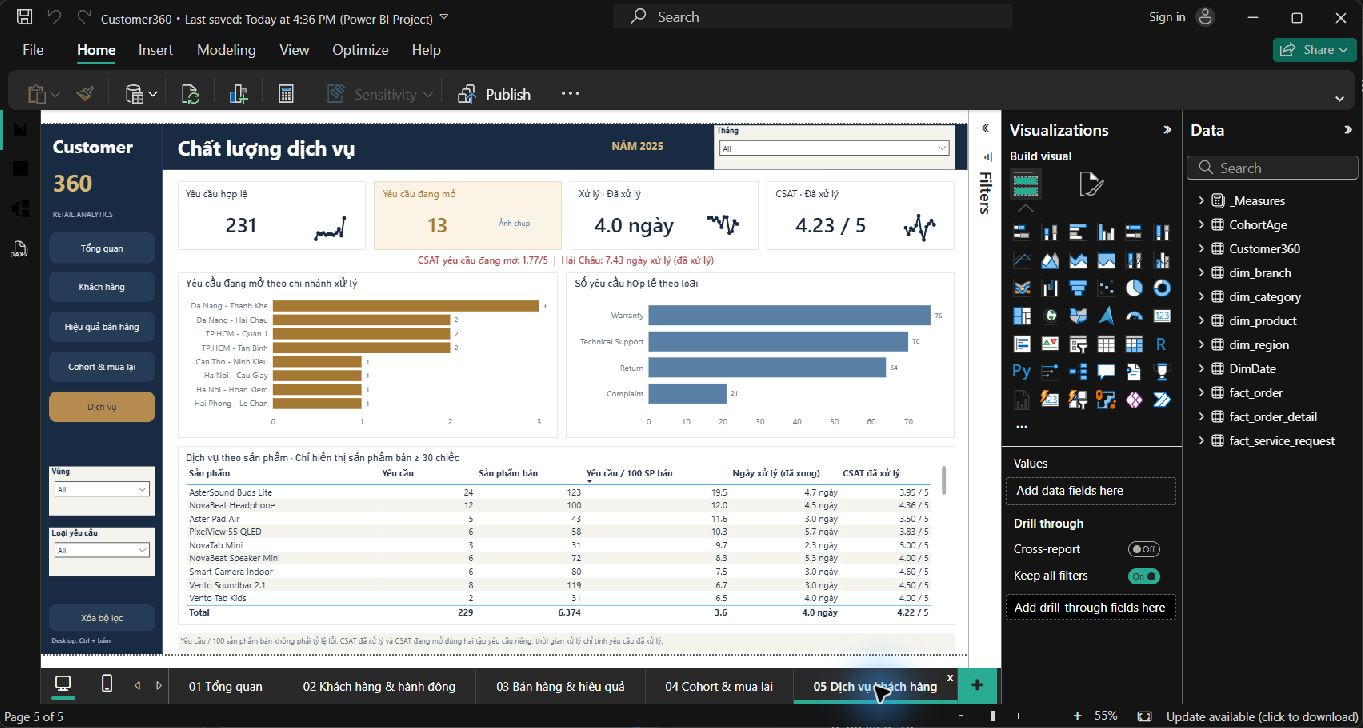

What the dashboard file says about the page in this screenshot:
{"tool":"powerbi","page":{"name":"05 Dịch vụ khách hàng","canvas":[1680,960],"ordinal":4},"visuals":[{"type":"textbox","box":[0,0,220,960],"z":0},{"type":"textbox","box":[220,0,1460,82],"z":0},{"type":"actionButton","box":[248,104,340,124],"z":1},{"type":"actionButton","box":[604,104,340,124],"z":1},{"type":"actionButton","box":[960,104,340,124],"z":1},{"type":"actionButton","box":[1316,104,340,124],"z":1},{"type":"actionButton","box":[248,268,688,300],"z":1},{"type":"actionButton","box":[952,268,704,300],"z":1},{"type":"actionButton","box":[248,584,1408,324],"z":1},{"type":"actionButton","box":[14,195,192,56],"z":20},{"type":"actionButton","box":[14,267,192,56],"z":20},{"type":"actionButton","box":[14,339,192,56],"z":20},{"type":"actionButton","box":[14,411,192,56],"z":20},{"type":"actionButton","box":[14,483,192,56],"z":20},{"type":"actionButton","box":[14,870,192,48],"z":20},{"type":"clusteredBarChart","title":"Yêu cầu đang mở theo chi nhánh xử lý","fields":{"Category":["dim_branch.branch_name"],"Y":["_Measures.Open Service Requests"]},"box":[258,276,668,284],"z":45},{"type":"clusteredBarChart","title":"Số yêu cầu hợp lệ theo loại","fields":{"Category":["fact_service_request.request_type"],"Y":["_Measures.Valid Service Requests"]},"box":[962,276,684,284],"z":45},{"type":"tableEx","title":"Dịch vụ theo sản phẩm · Chỉ hiển thị sản phẩm bán ≥ 30 chiếc","fields":{"Values":["dim_product.product_name","_Measures.Valid Service Requests","_Measures.Units Sold","_Measures.Requests Per 100 Units","_Measures.Avg Resolution Days","_Measures.CSAT Resolved"]},"box":[258,592,1388,308],"z":45},{"type":"slicer","title":"Tháng","fields":{"Values":["DimDate.MonthLabel"]},"box":[1220,1,436,80],"z":55},{"type":"slicer","title":"Vùng","fields":{"Values":["dim_region.region_name"]},"box":[14,620,192,89],"z":56},{"type":"slicer","title":"Loại yêu cầu","fields":{"Values":["fact_service_request.request_type"]},"box":[14,730,192,89],"z":57},{"type":"card","fields":{"Values":["_Measures.Valid Service Requests"]},"box":[256,144,214,76],"z":60},{"type":"card","fields":{"Values":["_Measures.Open Service Requests"]},"box":[612,144,214,76],"z":60},{"type":"card","fields":{"Values":["_Measures.Avg Resolution Days"]},"box":[968,144,214,76],"z":60},{"type":"card","fields":{"Values":["_Measures.CSAT Resolved"]},"box":[1324,144,214,76],"z":60},{"type":"lineChart","fields":{"Category":["DimDate.MonthNumber"],"Y":["_Measures.Valid Service Requests"]},"box":[479,149,100,70],"z":65},{"type":"lineChart","fields":{"Category":["DimDate.MonthNumber"],"Y":["_Measures.Avg Resolution Days"]},"box":[1191,149,100,70],"z":65},{"type":"lineChart","fields":{"Category":["DimDate.MonthNumber"],"Y":["_Measures.CSAT Resolved"]},"box":[1547,149,100,70],"z":65},{"type":"textbox","box":[248,923,1408,33],"z":65},{"type":"textbox","box":[16,12,196,70],"z":80},{"type":"textbox","box":[242,12,790,65],"z":80},{"type":"textbox","box":[1030,21,170,48],"z":80},{"type":"textbox","box":[16,73,196,76],"z":80},{"type":"textbox","box":[258,108,318,42],"z":80},{"type":"textbox","box":[614,108,318,42],"z":80},{"type":"textbox","box":[970,108,318,42],"z":80},{"type":"textbox","box":[1326,108,318,42],"z":80},{"type":"textbox","box":[16,149,196,40],"z":80},{"type":"textbox","box":[824,164,112,46],"z":80},{"type":"textbox","box":[14,921,196,33],"z":80},{"type":"card","fields":{"Values":["_Measures.Service Attention Line"]},"box":[258,232,1388,33],"z":90}]}

Visuals, with their boxes on the page's 1680x960 design canvas (x1, y1, x2, y2). These are canvas units, not pixel positions in the 1363x728 screenshot, which may show the page scaled, cropped or inside an application window:
textbox: 0 0 220 960
textbox: 220 0 1680 82
actionButton: 248 104 588 228
actionButton: 604 104 944 228
actionButton: 960 104 1300 228
actionButton: 1316 104 1656 228
actionButton: 248 268 936 568
actionButton: 952 268 1656 568
actionButton: 248 584 1656 908
actionButton: 14 195 206 251
actionButton: 14 267 206 323
actionButton: 14 339 206 395
actionButton: 14 411 206 467
actionButton: 14 483 206 539
actionButton: 14 870 206 918
"Yêu cầu đang mở theo chi nhánh xử lý" clusteredBarChart: 258 276 926 560
"Số yêu cầu hợp lệ theo loại" clusteredBarChart: 962 276 1646 560
"Dịch vụ theo sản phẩm · Chỉ hiển thị sản phẩm bán ≥ 30 chiếc" tableEx: 258 592 1646 900
"Tháng" slicer: 1220 1 1656 81
"Vùng" slicer: 14 620 206 709
"Loại yêu cầu" slicer: 14 730 206 819
card - _Measures.Valid Service Requests: 256 144 470 220
card - _Measures.Open Service Requests: 612 144 826 220
card - _Measures.Avg Resolution Days: 968 144 1182 220
card - _Measures.CSAT Resolved: 1324 144 1538 220
lineChart - DimDate.MonthNumber x _Measures.Valid Service Requests: 479 149 579 219
lineChart - DimDate.MonthNumber x _Measures.Avg Resolution Days: 1191 149 1291 219
lineChart - DimDate.MonthNumber x _Measures.CSAT Resolved: 1547 149 1647 219
textbox: 248 923 1656 956
textbox: 16 12 212 82
textbox: 242 12 1032 77
textbox: 1030 21 1200 69
textbox: 16 73 212 149
textbox: 258 108 576 150
textbox: 614 108 932 150
textbox: 970 108 1288 150
textbox: 1326 108 1644 150
textbox: 16 149 212 189
textbox: 824 164 936 210
textbox: 14 921 210 954
card - _Measures.Service Attention Line: 258 232 1646 265
